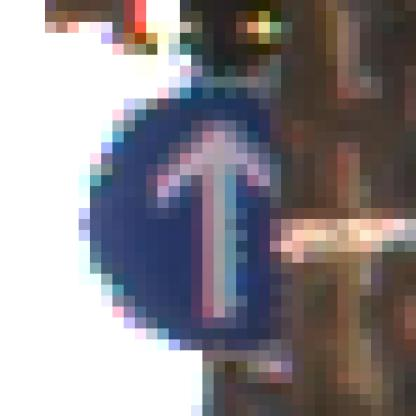AheadOnly: (57, 56, 361, 351)
